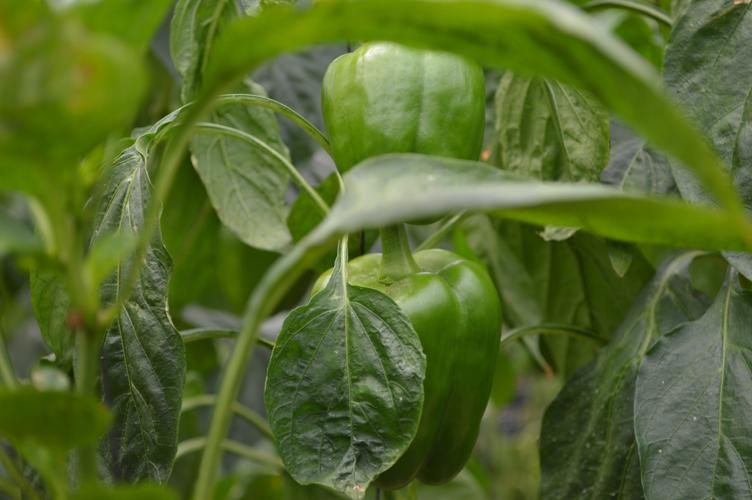BellPepper: (313, 250, 500, 481), (320, 47, 482, 162)
